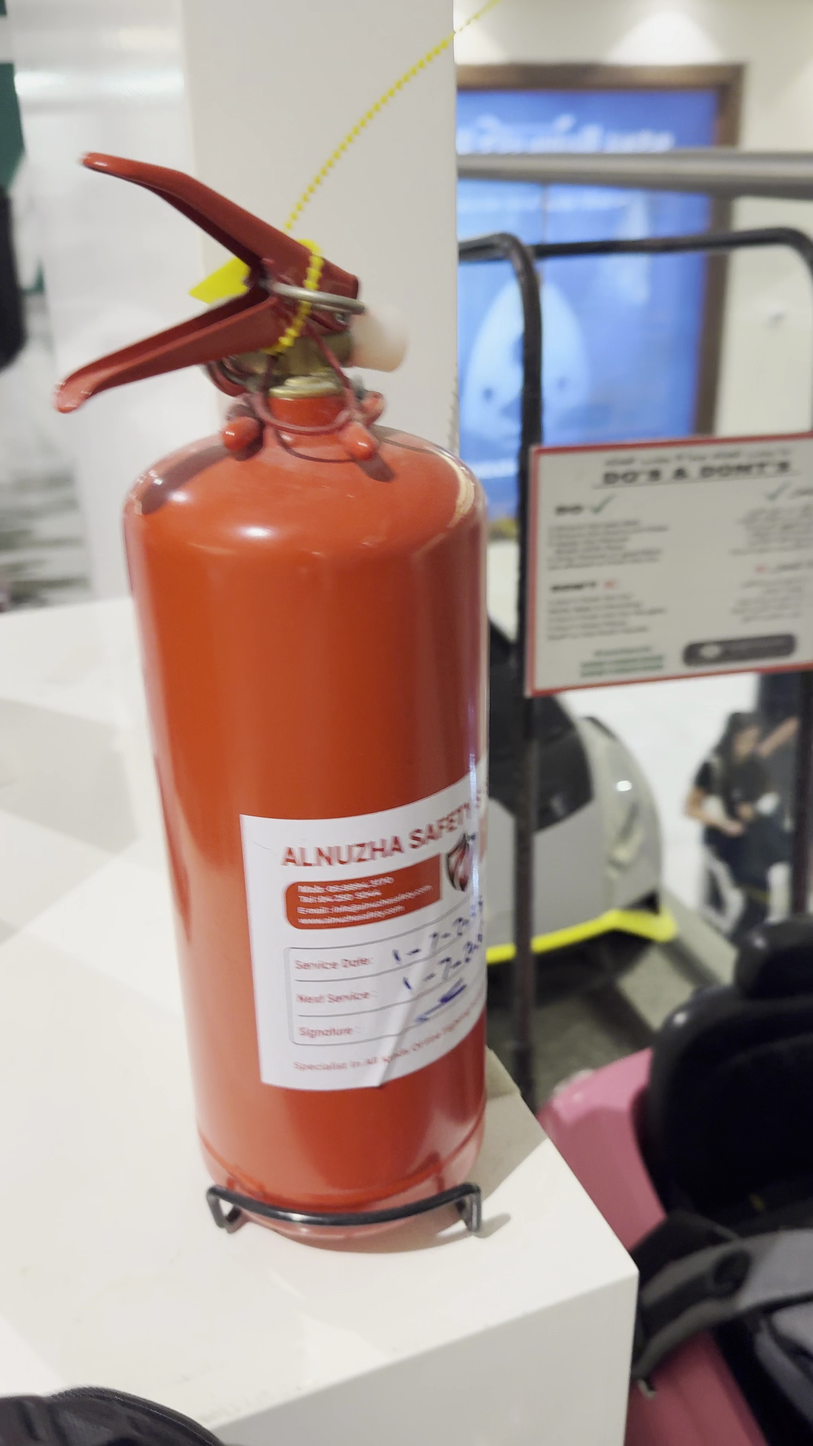fire_extinguisher: (53, 150, 492, 1252)
